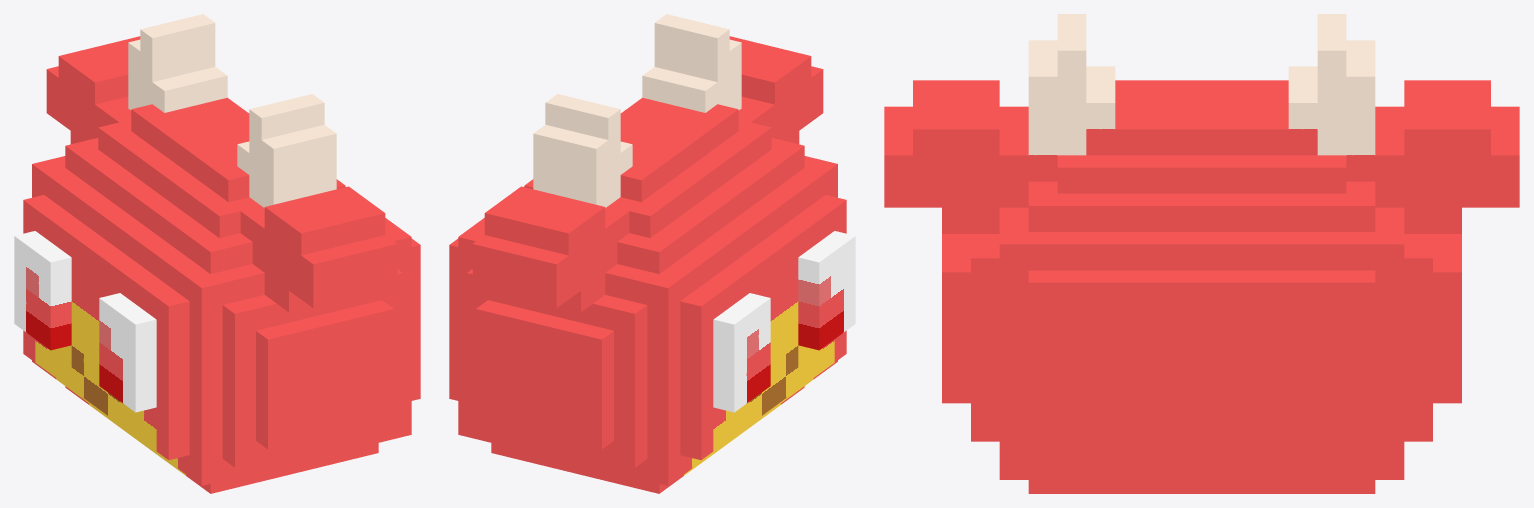
The picture shows the model from 3 angles, left to right: view 1: azimuth 30°, elevation 25°; view 2: azimuth 150°, elevation 25°; view 3: azimuth 270°, elevation 25°; orthographic projection. The views are drawn at different scales.
Parts seen in each view (by area): view 1: Object; view 2: Object; view 3: Object.
Part boxes in pixels (x1,y1,x2,y2): Object: (14,14,420,493); Object: (449,14,855,493); Object: (884,14,1519,493).
Bounding box in the file's own units: 13 × 16 × 22.
1 material, 1 textured.
